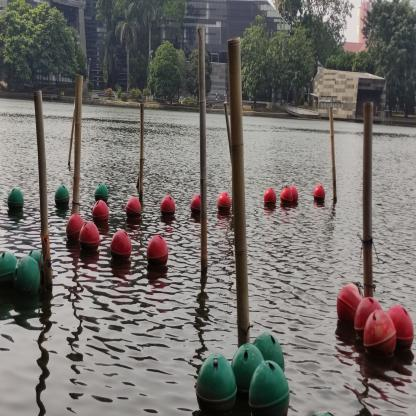green_buoy: (195, 351, 237, 413), (248, 358, 290, 416), (230, 340, 266, 392), (252, 330, 286, 376), (13, 256, 41, 298), (0, 251, 19, 285), (7, 186, 24, 214), (27, 248, 44, 276), (54, 184, 70, 209), (94, 182, 109, 203)
red_buoy: (363, 309, 397, 360), (387, 302, 415, 354), (353, 296, 383, 341), (336, 280, 364, 326), (146, 233, 169, 270), (109, 229, 133, 264), (78, 221, 102, 256), (65, 212, 85, 242), (91, 199, 110, 228), (125, 196, 142, 220), (160, 194, 176, 219), (216, 192, 232, 216), (263, 187, 277, 209), (189, 194, 202, 216), (280, 186, 293, 206), (312, 185, 326, 203), (289, 185, 299, 205)
